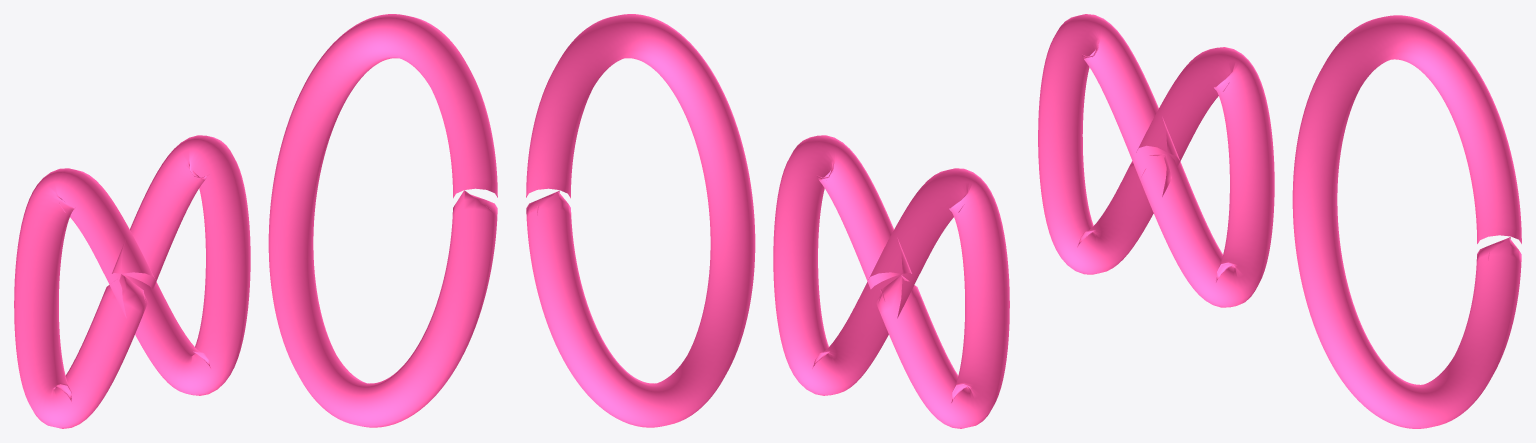
The picture shows the model from 3 angles, left to right: view 1: azimuth 30°, elevation 25°; view 2: azimuth 150°, elevation 25°; view 3: azimuth 330°, elevation 25°; orthographic projection.
Parts seen in each view (by area): view 1: MorphMesh; view 2: MorphMesh; view 3: MorphMesh.
Part boxes in pixels (x1,y1,x2,y2): MorphMesh: [14, 14, 497, 428]; MorphMesh: [526, 14, 1009, 428]; MorphMesh: [1038, 14, 1521, 428].
Size of the model in its own units: 2.59 by 2.11 by 0.21.
